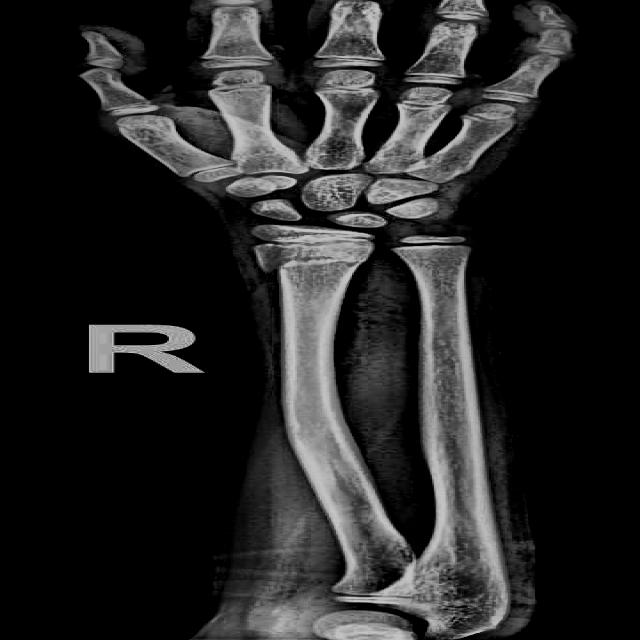line: (252, 254, 368, 276)
